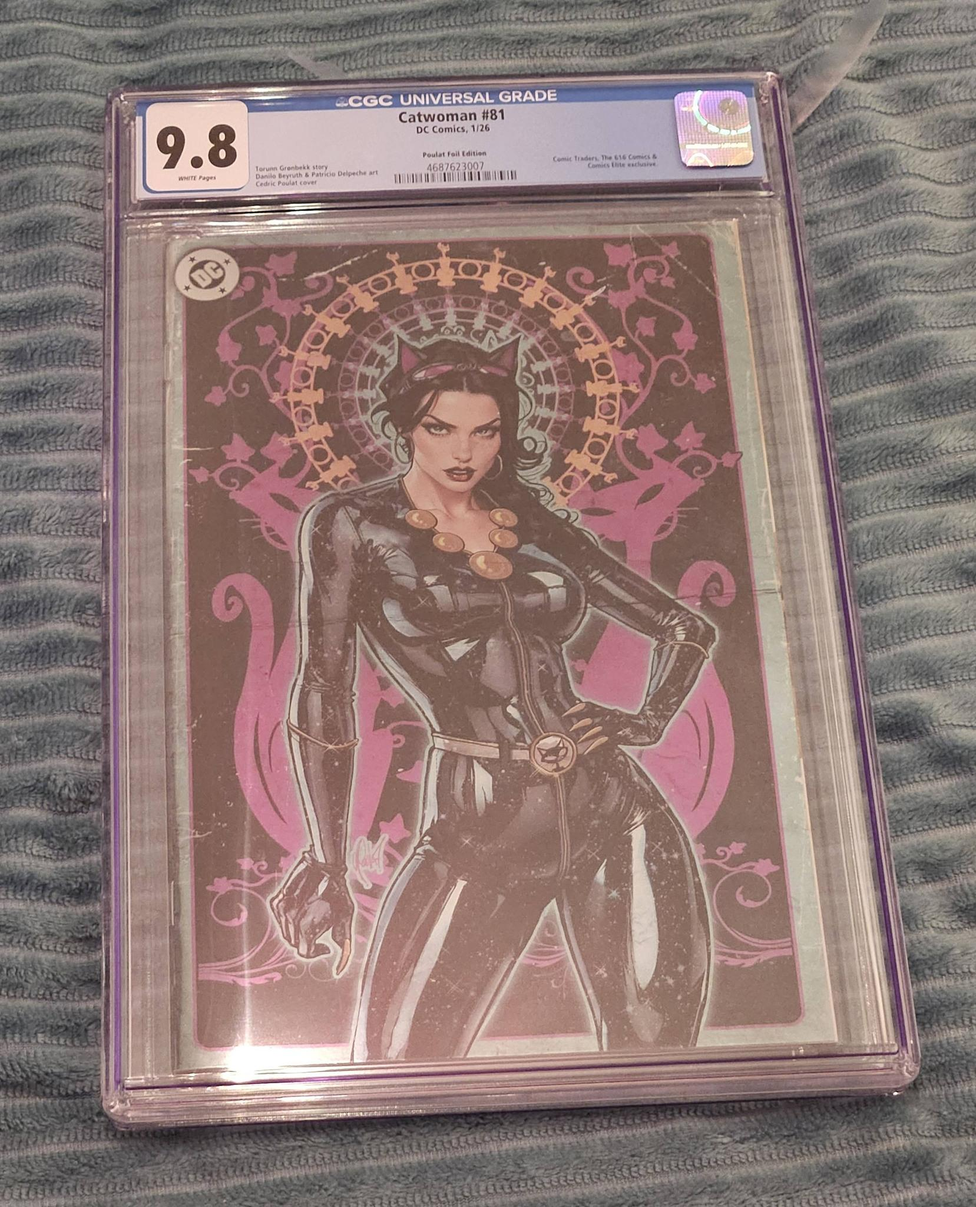comic: (145, 220, 833, 1073)
